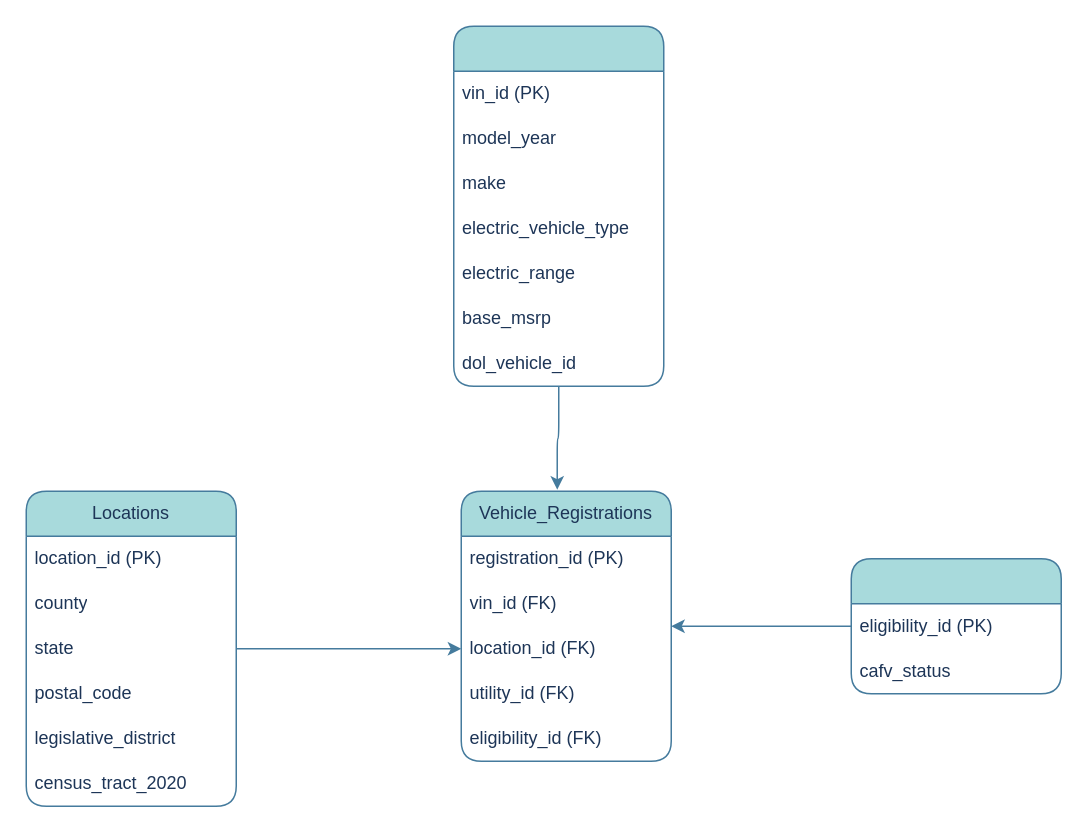
Some shapes in this 1088 by 833 pixel diagram are drawn without their labels. Here are the shapes that lost their labels. From the top down, the box of each, then its label:
(452, 25, 664, 386): Vehicles
(850, 557, 1061, 694): CAFV_Eligibility
